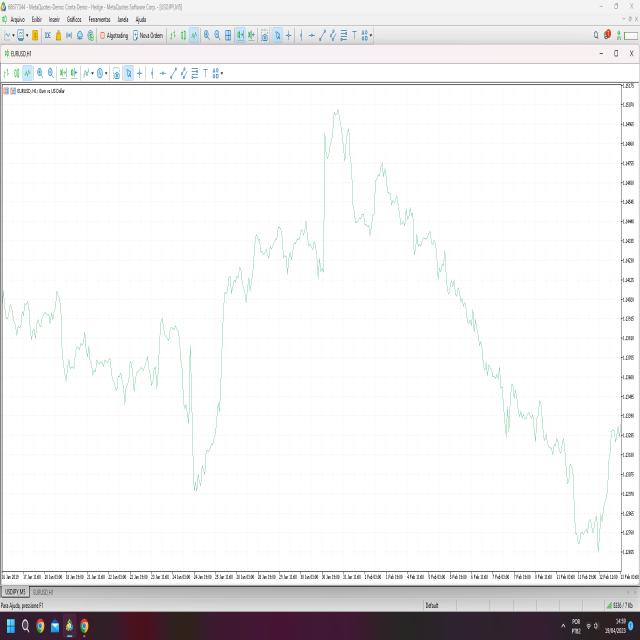oco: (304, 96, 368, 209)
